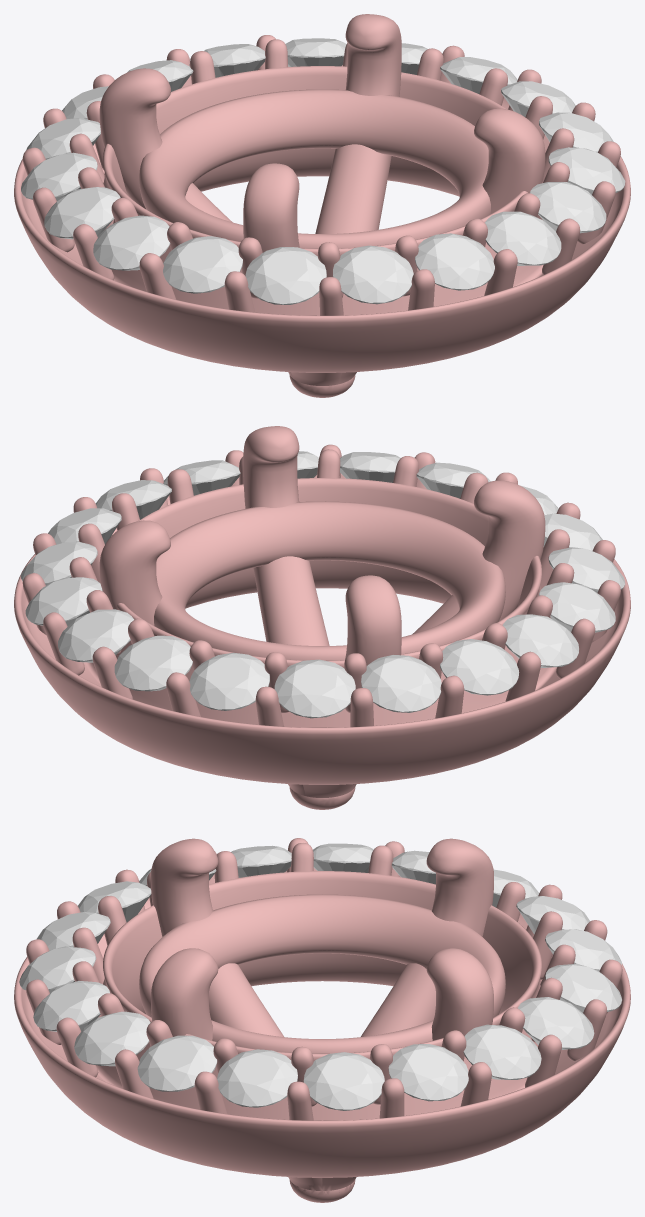
Rendered from SingleHalo.glb.
3 views of the same model, one above another, from view 1: azimuth 30°, elevation 25°; view 2: azimuth 150°, elevation 25°; view 3: azimuth 270°, elevation 25° (orthographic).
Visible parts, largest first — view 1: metal, 4 prong, diamond; view 2: metal, 4 prong, diamond; view 3: metal, 4 prong, diamond.
Part boxes in pixels (x1,y1,x2,y2): metal: (14, 35, 630, 372); 4 prong: (99, 14, 545, 397); diamond: (21, 38, 625, 304); metal: (14, 444, 630, 784); 4 prong: (99, 426, 545, 809); diamond: (21, 451, 625, 718); metal: (14, 838, 630, 1177); 4 prong: (139, 838, 505, 1202); diamond: (19, 843, 621, 1110).
Bounding box in the file's own units: 8.35 × 4.48 × 8.35.
